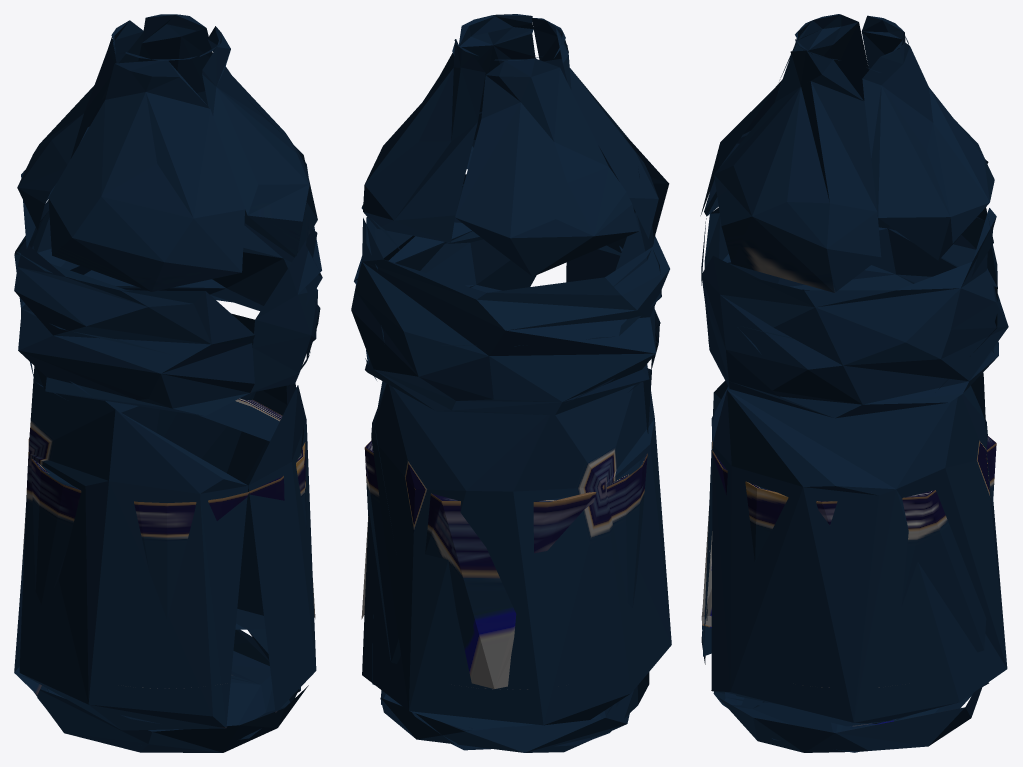
Rendered from food_beverage_bottledWater_f01.glb.
3 renders of one model, left to right at view 1: azimuth 30°, elevation 25°; view 2: azimuth 150°, elevation 25°; view 3: azimuth 270°, elevation 25°, orthographic.
Parts seen in each view (by area): view 1: geometry_0; view 2: geometry_0; view 3: geometry_0.
Boxes of the visible parts, <box> form: geometry_0: <box>14,14,322,752</box>; geometry_0: <box>351,14,671,752</box>; geometry_0: <box>700,14,1008,752</box>.
Bounding box in the file's own units: 0.1827 × 0.42 × 0.1712.
Materials: 1 (1 with a texture image).
